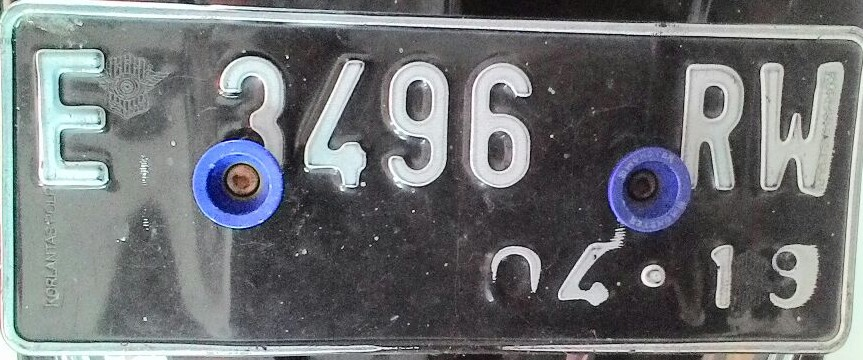plate: (2, 1, 856, 356)
